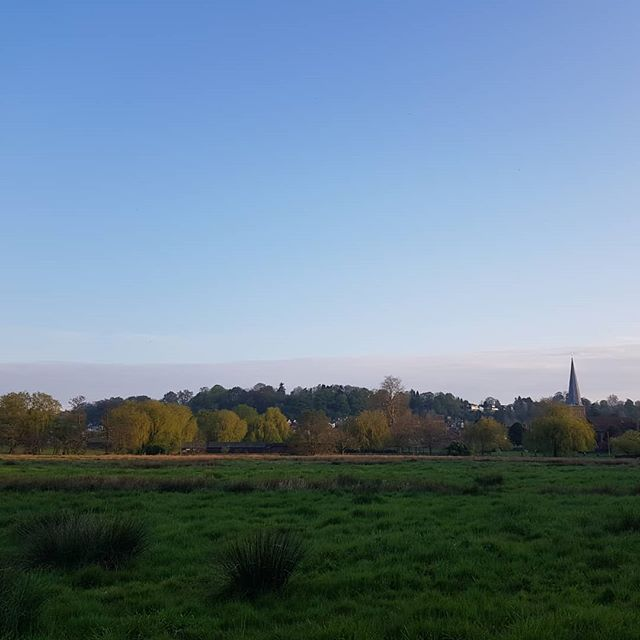grass: (1, 470, 638, 640)
sky: (1, 1, 638, 398)
vegetation: (7, 387, 640, 459)
